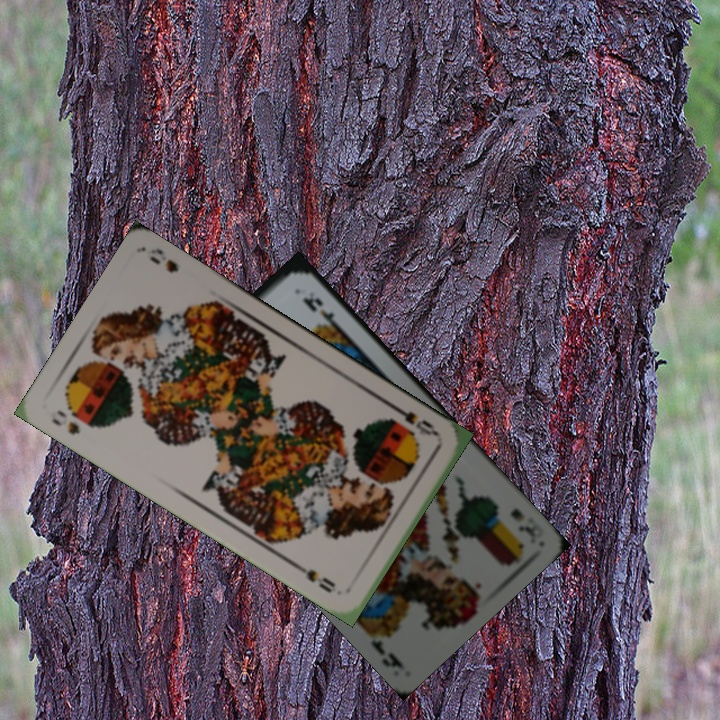EK: (506, 504, 542, 542)
SO: (389, 402, 443, 439), (47, 405, 83, 438)
